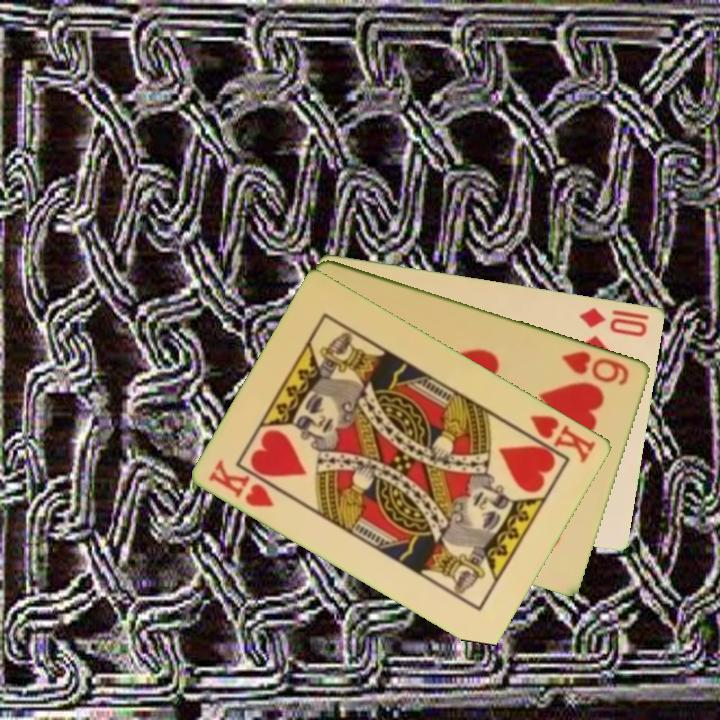10d: (576, 304, 651, 340)
6h: (559, 347, 633, 388)
Kh: (516, 411, 600, 466), (205, 455, 278, 510)
